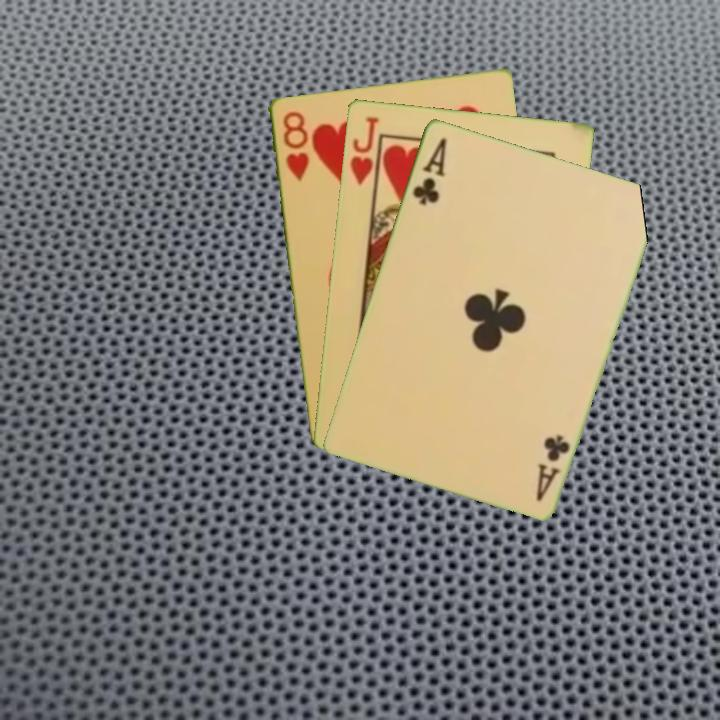8h: (279, 107, 312, 184)
Ac: (409, 133, 449, 207), (532, 430, 572, 504)
Jh: (346, 112, 381, 188)
